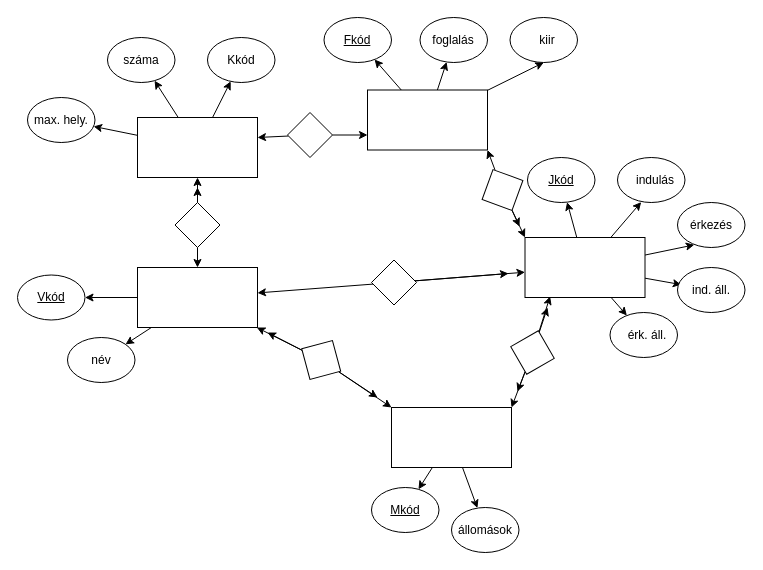
This 763x570 diagram has some shape labels left out. Each missing label, with the centre of its shape:
Foglalas: pixel 427 119
Jarat: pixel 584 267
Kocsi: pixel 197 147
MAV: pixel 451 437
Vonat: pixel 197 297
